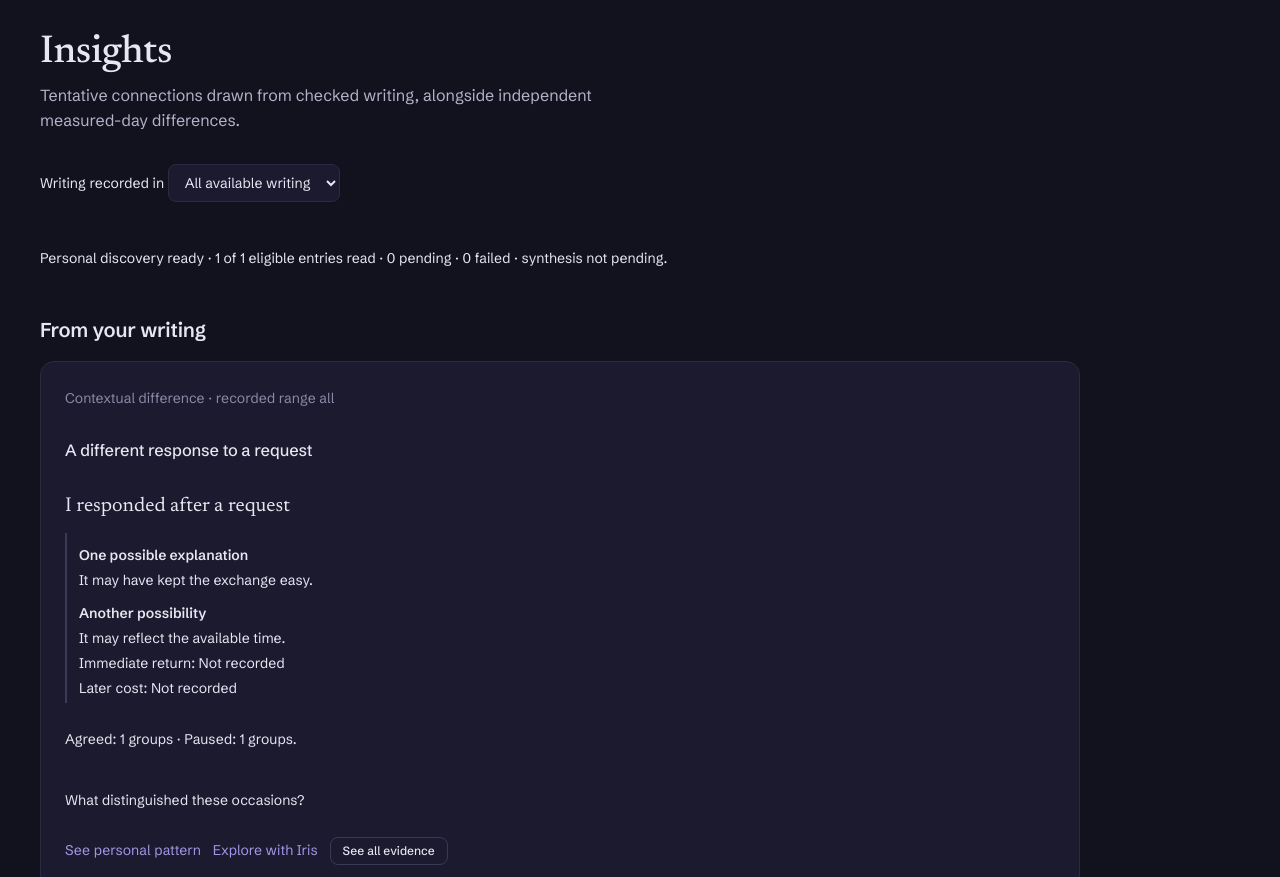
Test: exposes supporting, contrary, unknown, and every original entry without truncation
Click the button "See all evidence".
click(389, 851)  # box [330,837,448,865]
(page scrolled)
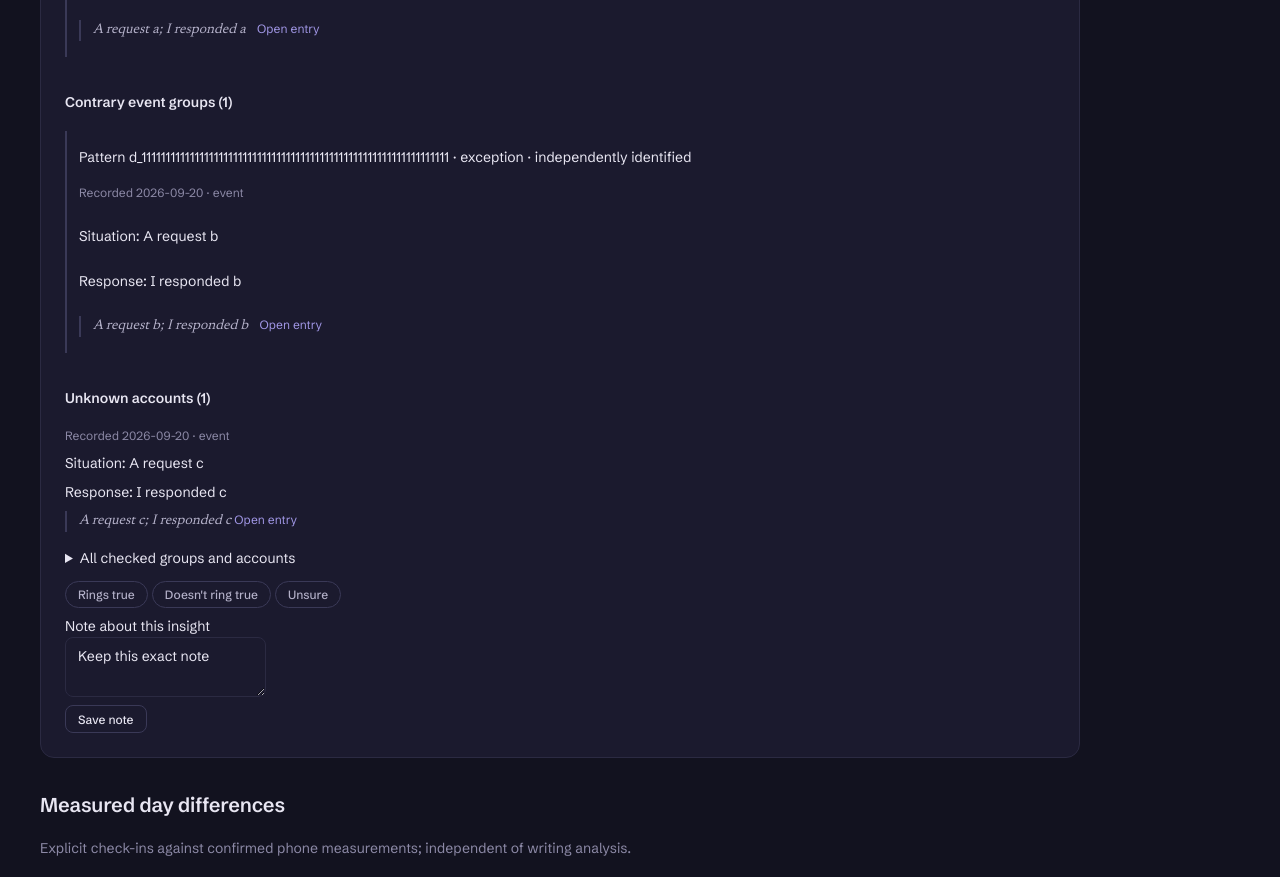
Expected: the element "Contrary event groups" shows "I responded b", [151,272,241,290]
Expected: the element "Unknown accounts" shows "I responded c", [137,484,227,502]
